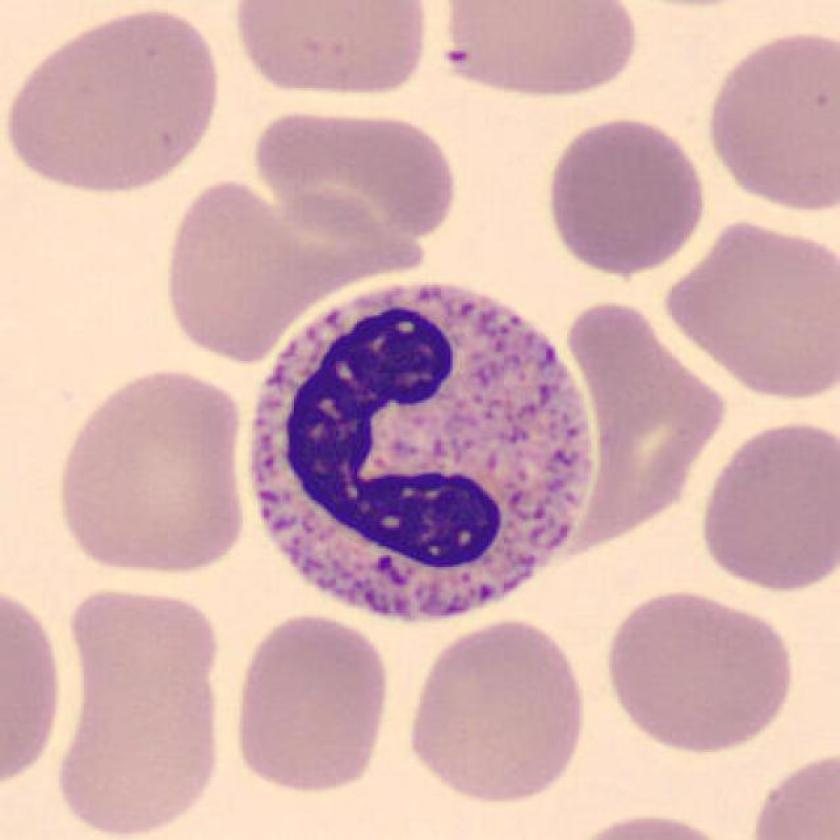neutrophil: (253, 283, 596, 623)
